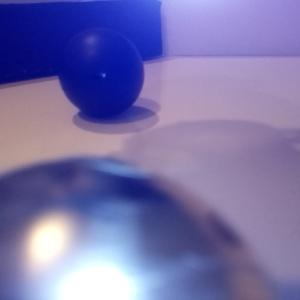alive_ball: (1, 155, 288, 300)
dead_ball: (58, 29, 147, 118)
